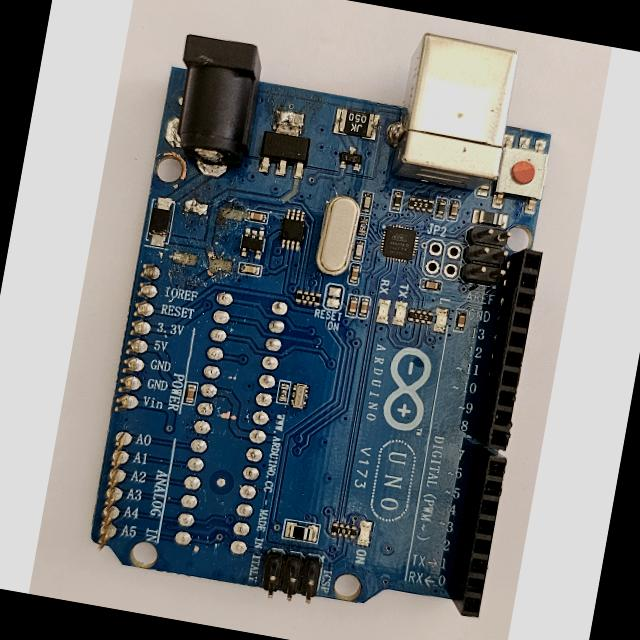missing_analog_pins: (84, 254, 174, 564)
missing_atmega: (162, 276, 294, 567)
missing_capacitors: (170, 192, 250, 274)
